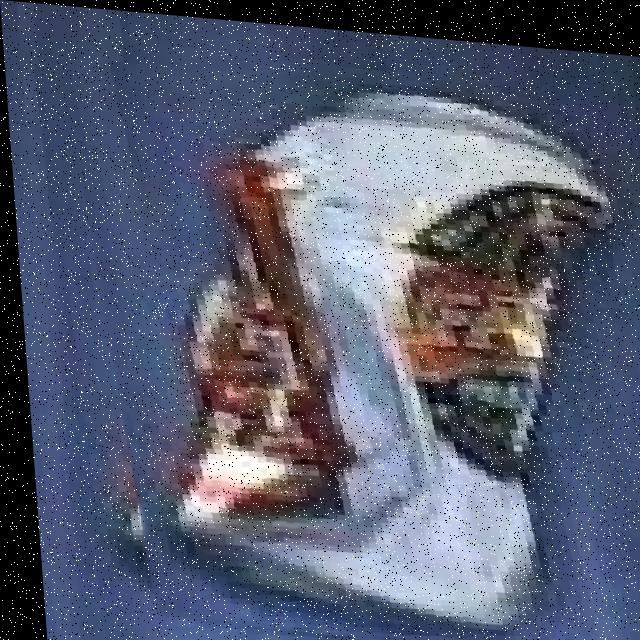can: (122, 67, 640, 640)
